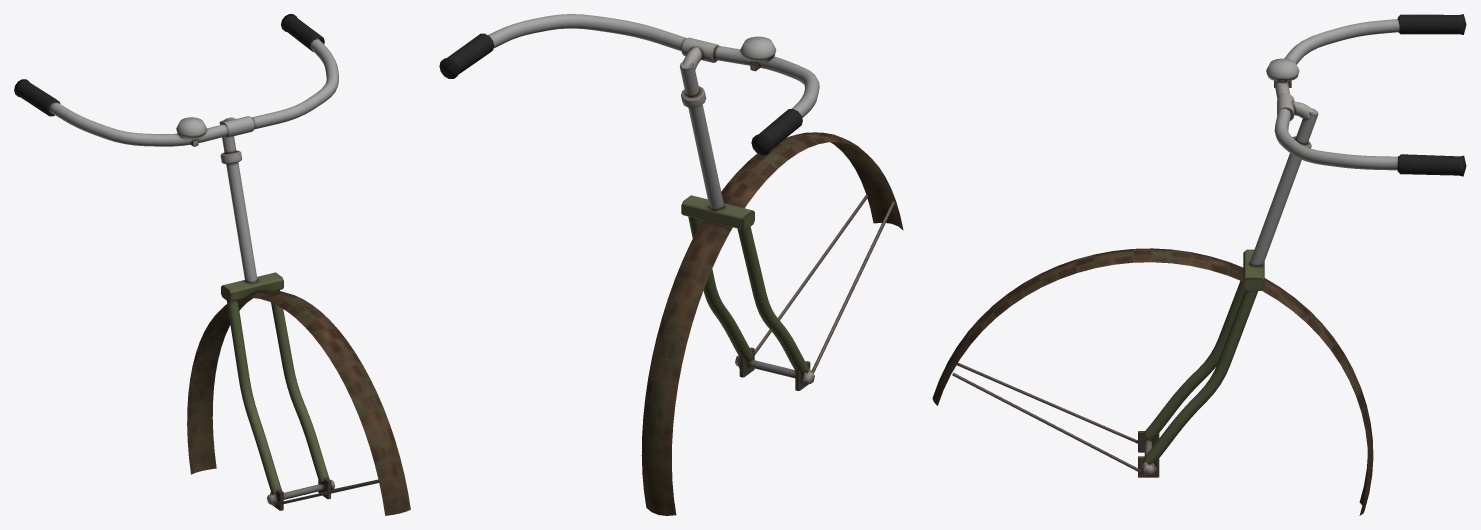
File: bicycle_fork.glb
The picture shows the model from 3 angles, left to right: view 1: azimuth 30°, elevation 25°; view 2: azimuth 150°, elevation 25°; view 3: azimuth 270°, elevation 25°; orthographic projection. The views are drawn at different scales.
Visible parts, largest first — view 1: bicycle_fork; view 2: bicycle_fork; view 3: bicycle_fork.
Part boxes in pixels (x1,y1,x2,y2): bicycle_fork: [14, 14, 410, 515]; bicycle_fork: [439, 14, 903, 515]; bicycle_fork: [932, 14, 1466, 515].
Size of the model in its own units: 0.5973 by 0.7868 by 0.8954.
Materials: 1 (1 with a texture image).
